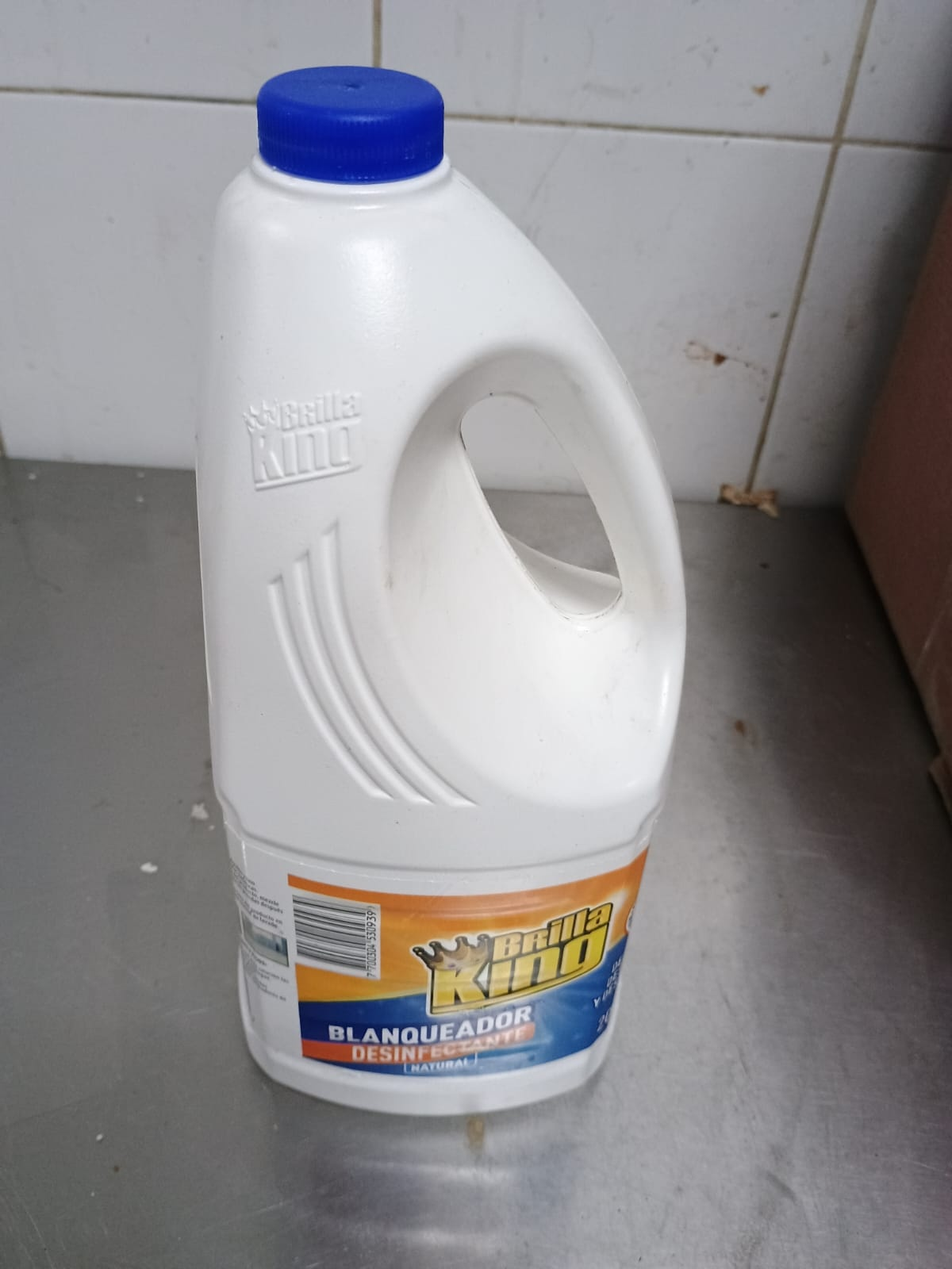Plastico: (195, 67, 687, 1115)
